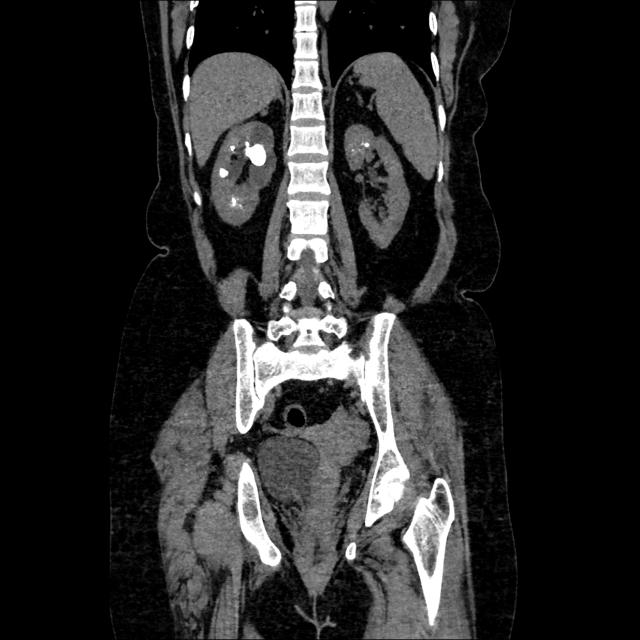kidney: (344, 120, 412, 268), (210, 122, 277, 229)
stone: (246, 139, 271, 171), (218, 162, 230, 181), (360, 139, 373, 156), (231, 197, 241, 212)
